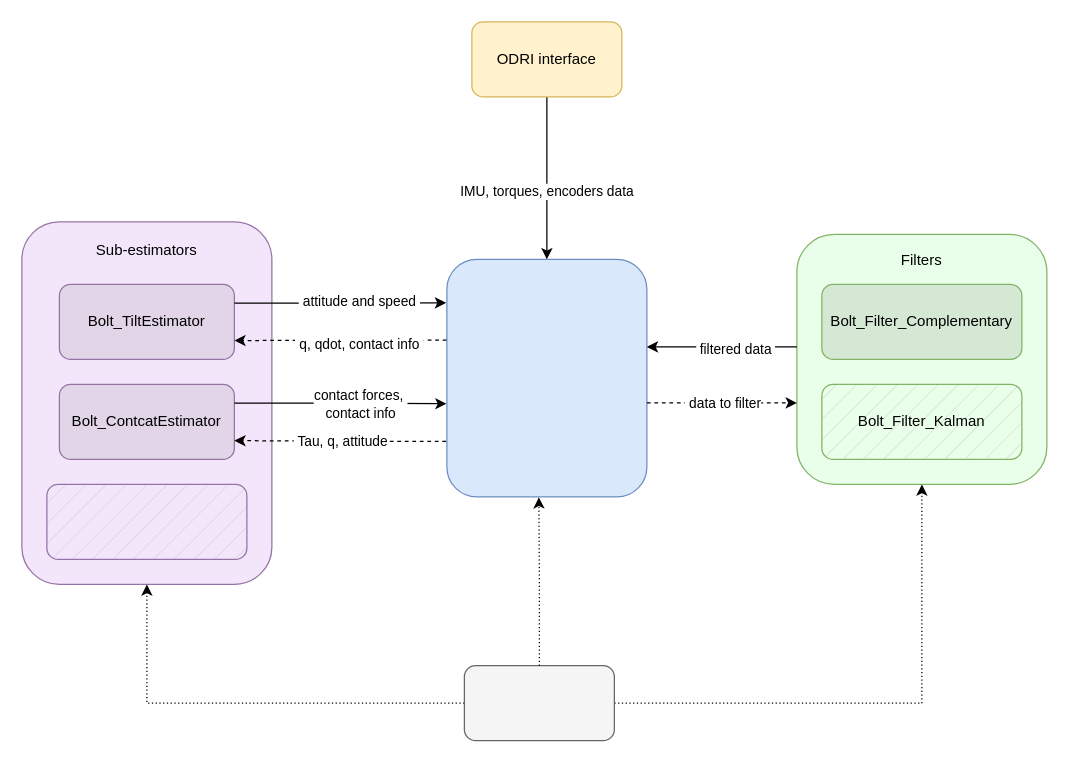
Image size: 1069x763. Some labels were removed from this diagram. Here are the shapes that lost their labels. From the top down, the centre of each, then its label:
At point (546, 377): "Bolt_Estimator".
At point (146, 521): "Bolt_FootAttitudeEstimator".
At point (538, 702): "Bolt_Utils".
